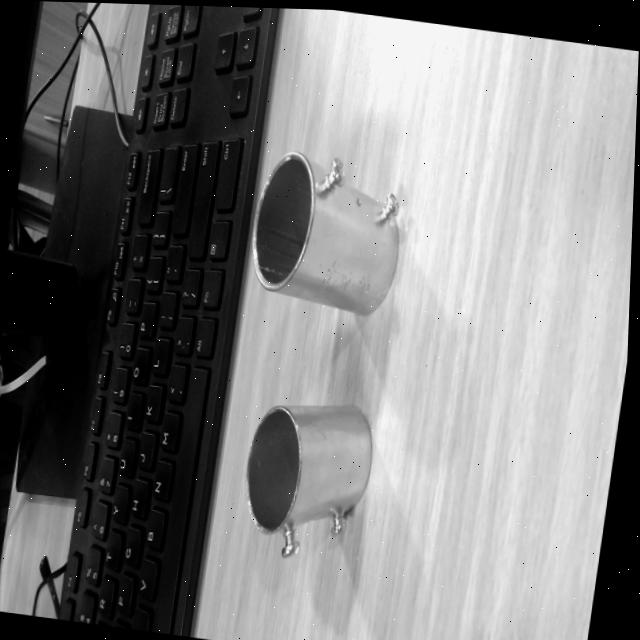Co_Lon: (237, 143, 416, 320)
Co_Nho: (245, 405, 370, 557)
